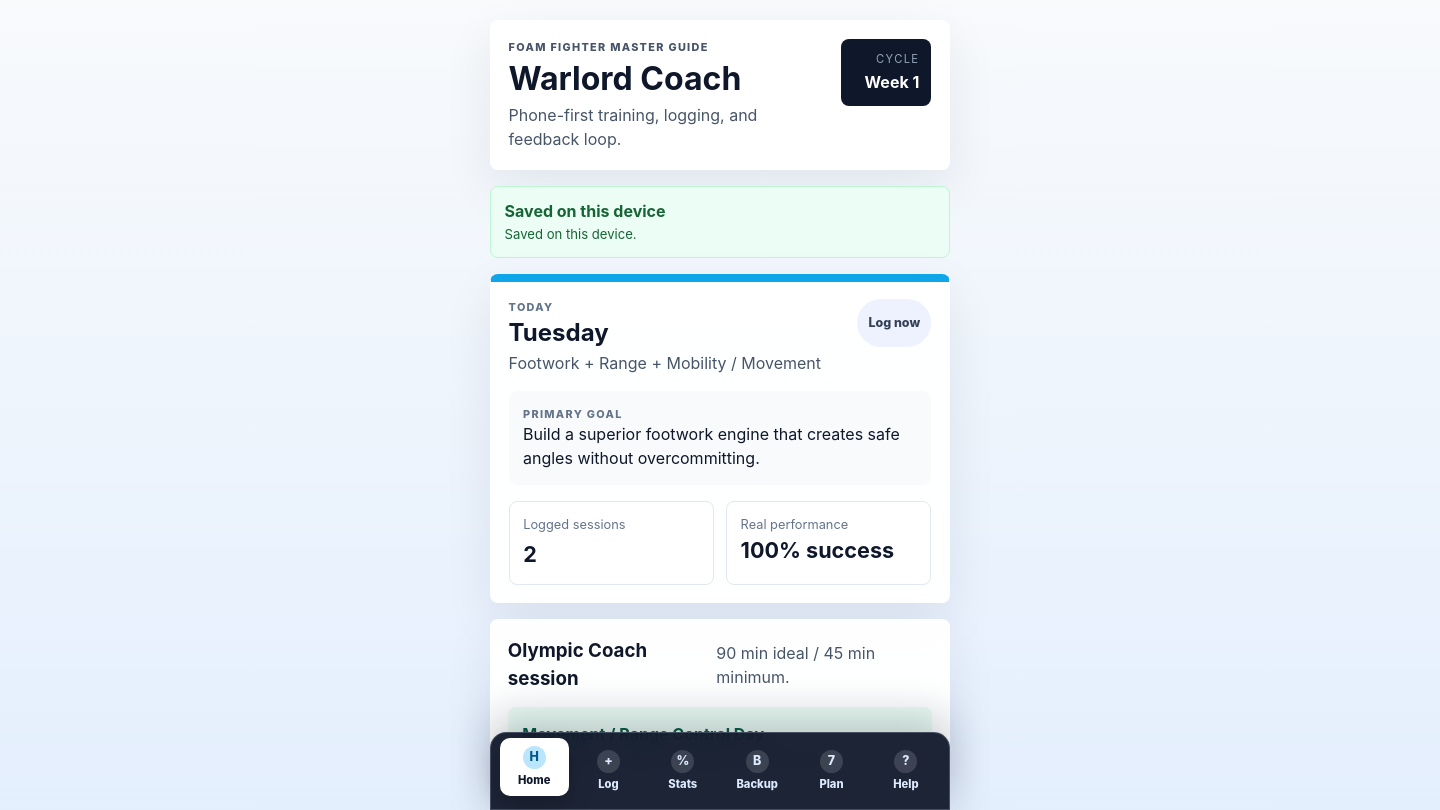
it: app smoke and session logging flows › deletes one log after confirmation and refreshes metrics
Click the button "+ Log". click: coordinates (608, 771)
box: [574,742,643,800]
(page scrolled)
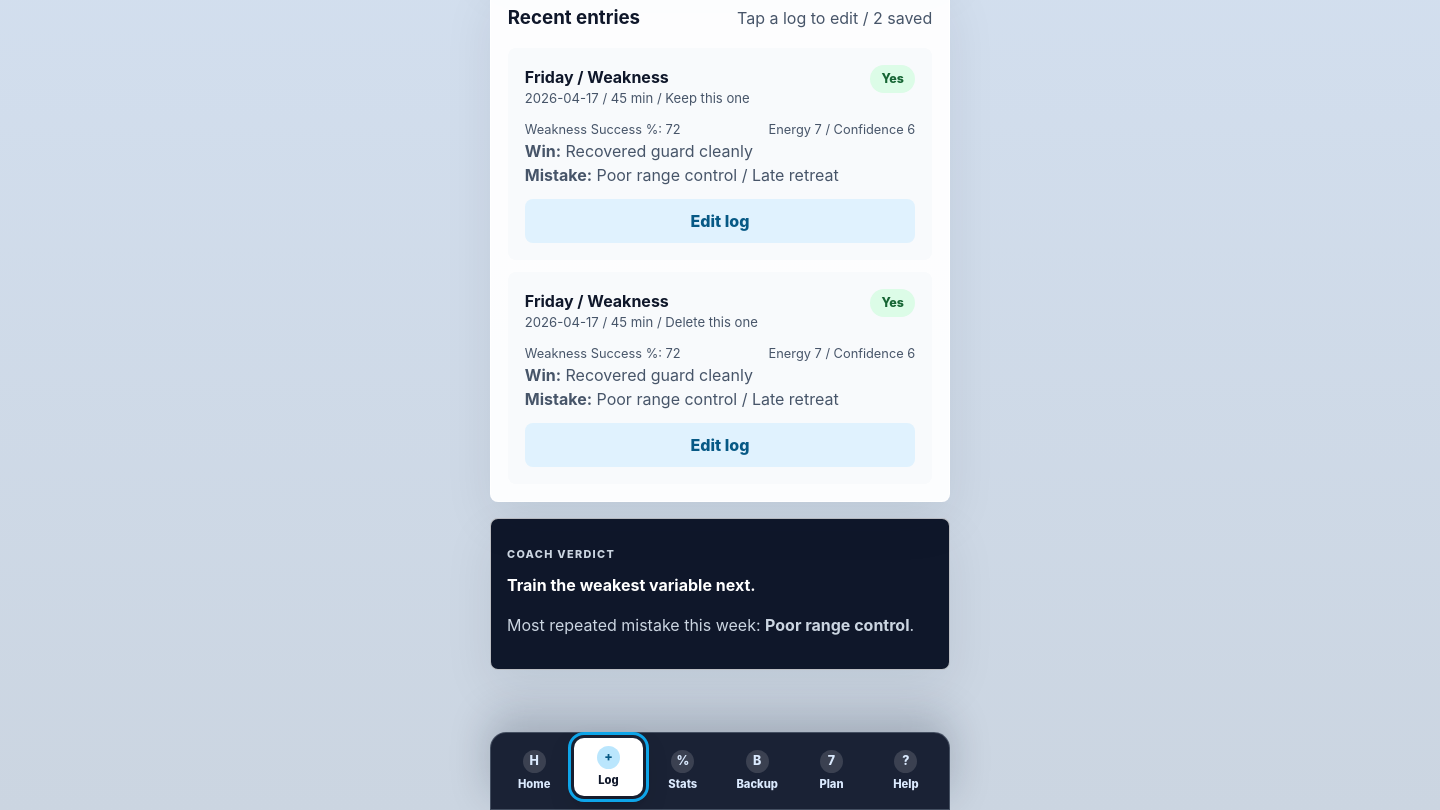
Click the button "Edit log" below "Delete this one". click: coordinates (720, 445)
box: [525,423,915,467]
(page scrolled)
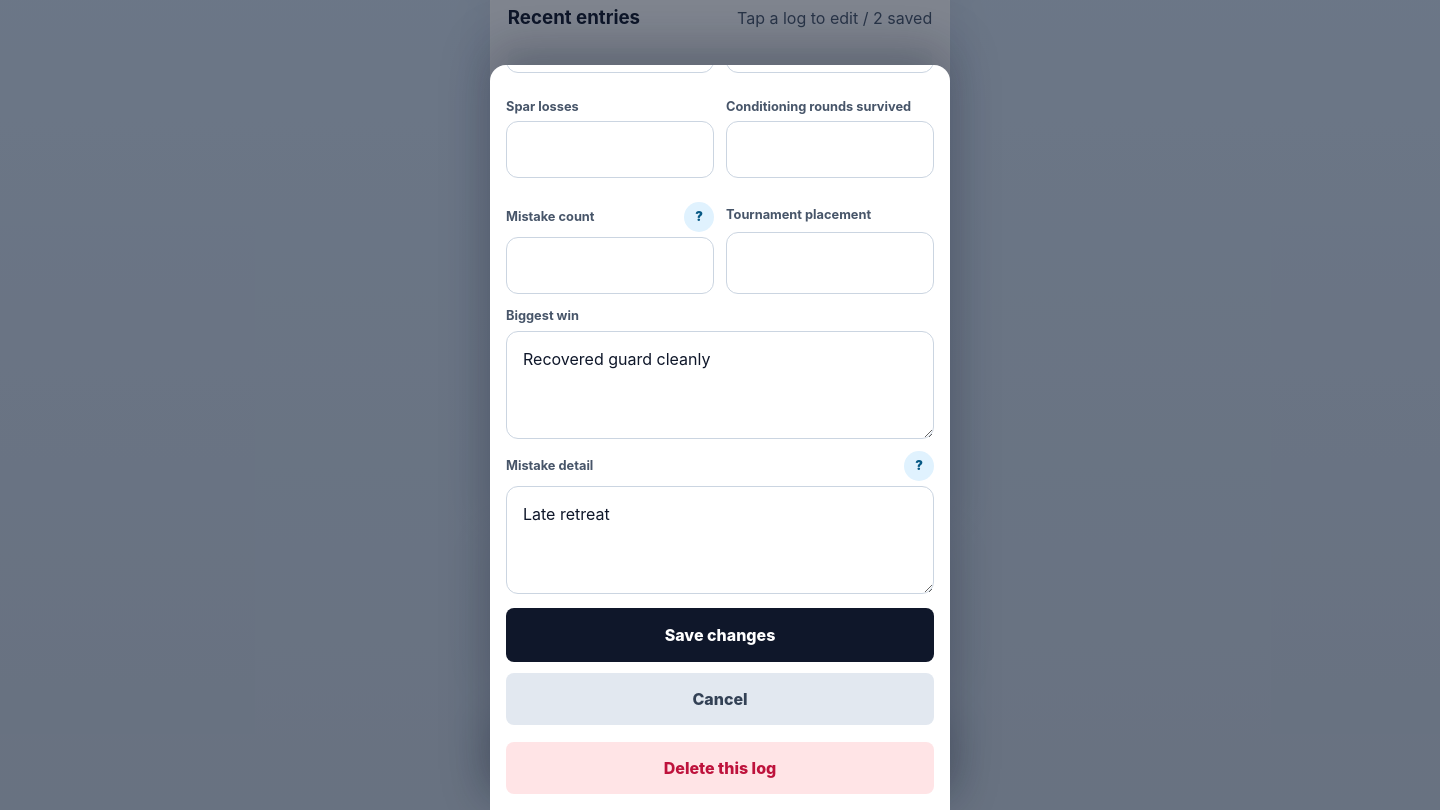
Click the button "Delete this log". click: coordinates (720, 768)
box: [506,742,934,794]
(page scrolled)
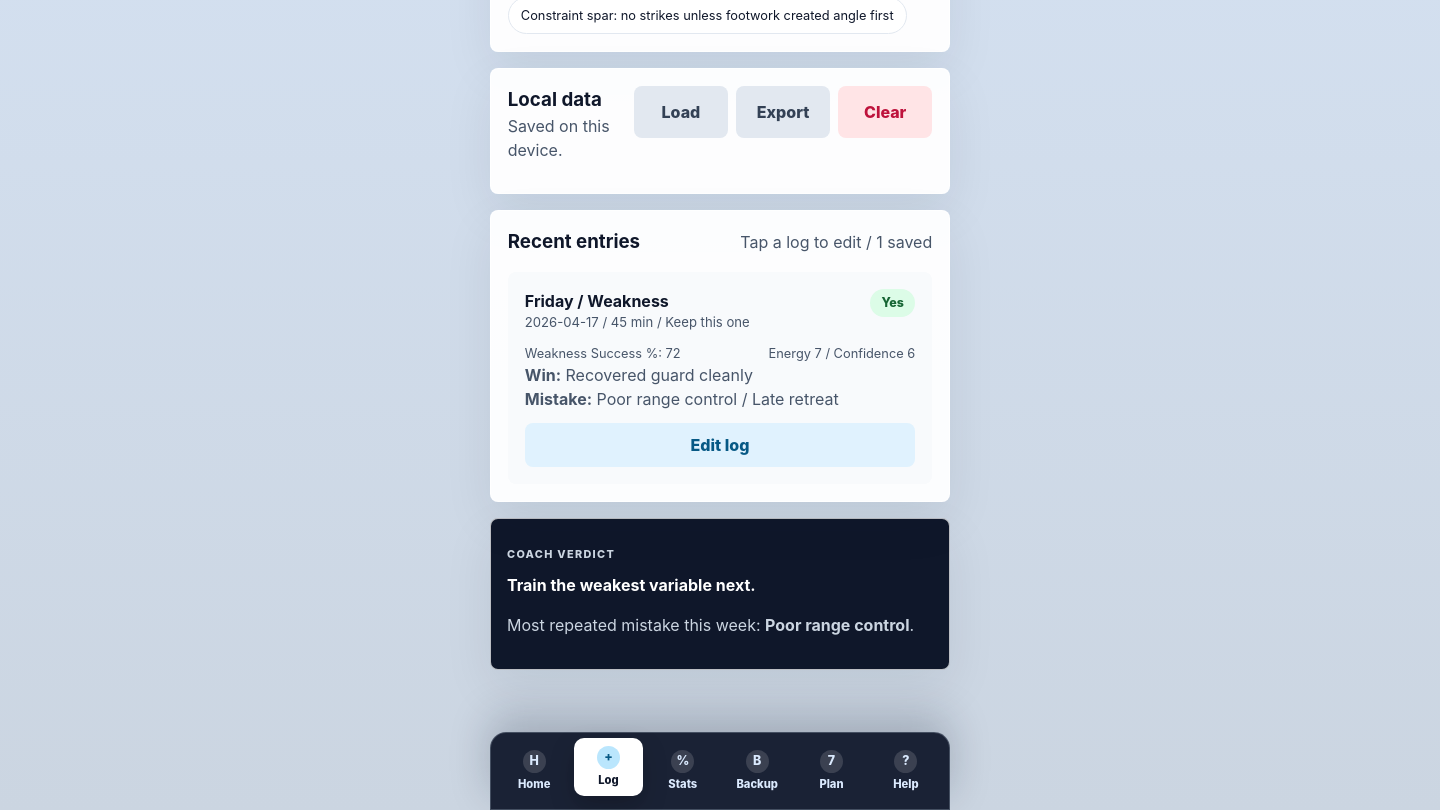
Expected: the text "Delete this one" is gone
Click the button "% Stats". click: coordinates (683, 771)
box: [648,742,717,800]
(page scrolled)
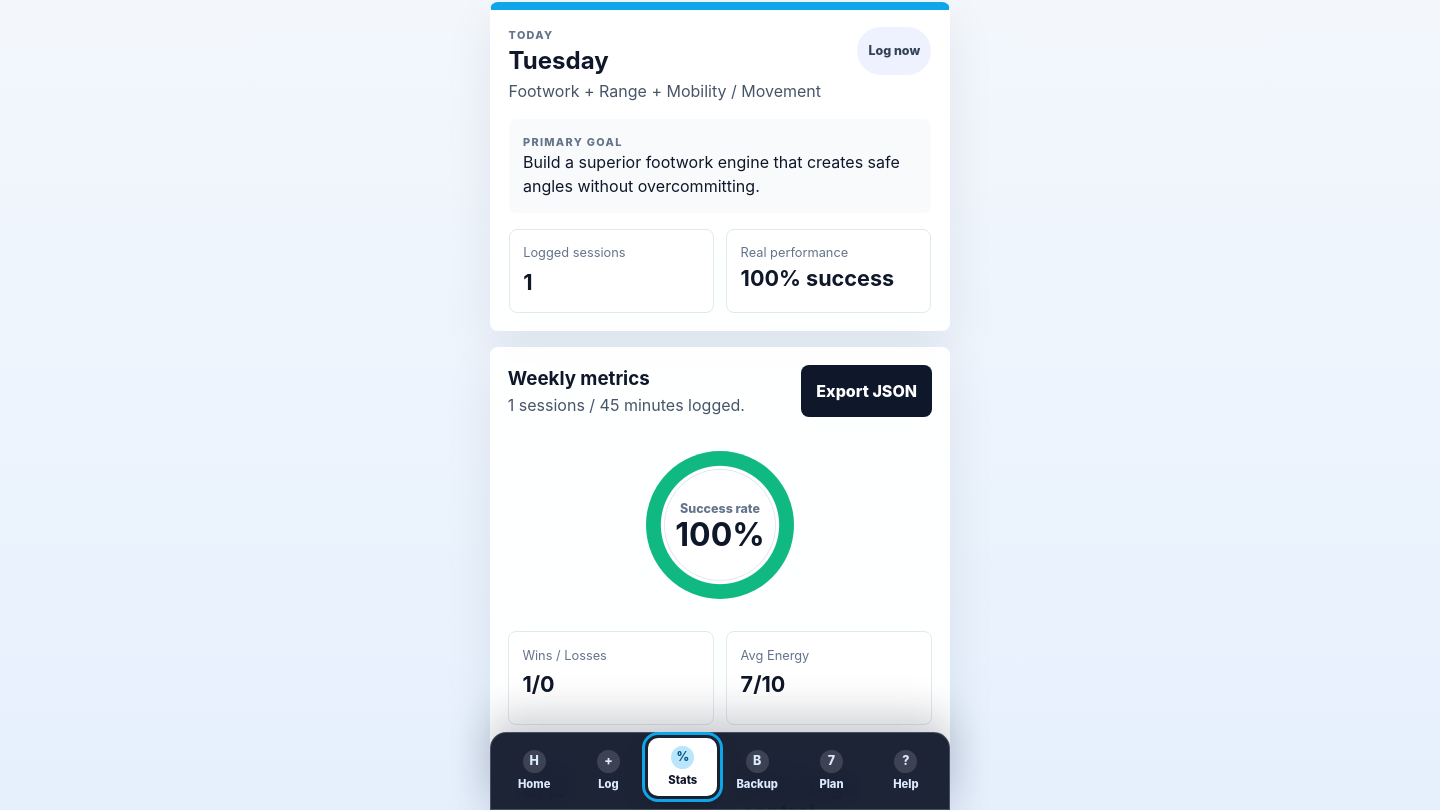
Expected: the text "1 sessions / 45 minutes logged." is shown, [508,395,745,415]
